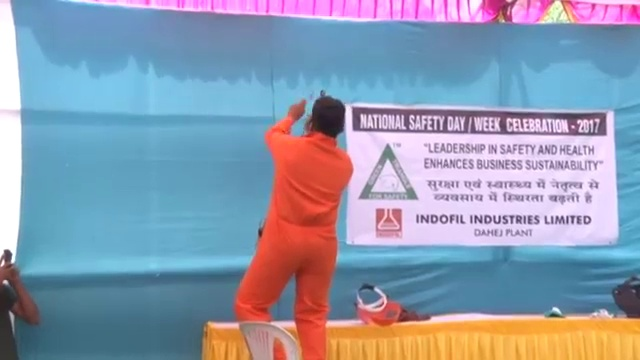helmet_off: (310, 95, 348, 143)
person: (232, 96, 355, 360), (1, 249, 39, 360)
